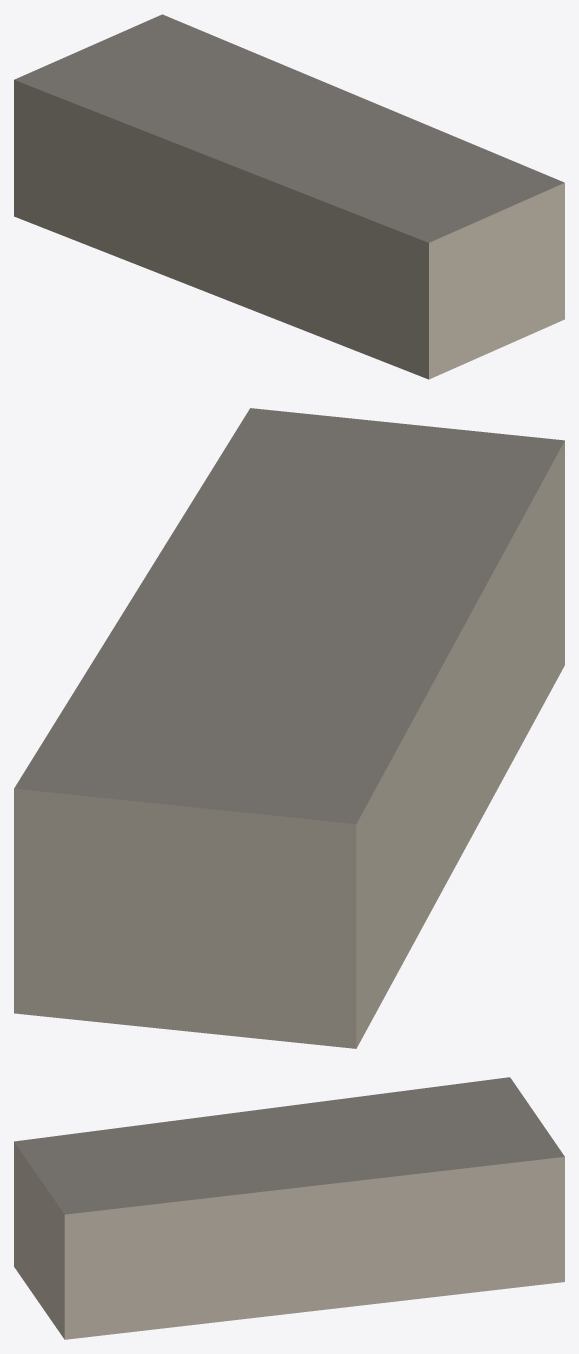
The picture shows the model from 3 angles, top to bottom: view 1: azimuth 30°, elevation 25°; view 2: azimuth 150°, elevation 25°; view 3: azimuth 270°, elevation 25°; orthographic projection. The views are drawn at different scales.
Visible parts, largest first — view 1: HP-w756797947; view 2: HP-w756797947; view 3: HP-w756797947.
Part boxes in pixels (x1,y1,x2,y2): HP-w756797947: (14, 14, 564, 379); HP-w756797947: (14, 408, 564, 1048); HP-w756797947: (14, 1077, 564, 1339).
Bounding box in the file's own units: 42.41 × 18 × 71.8.
